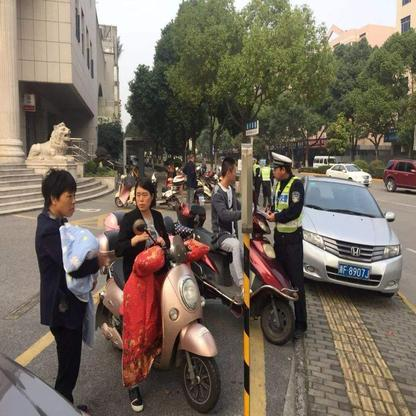target: (98, 177, 222, 413), (175, 158, 300, 345)
